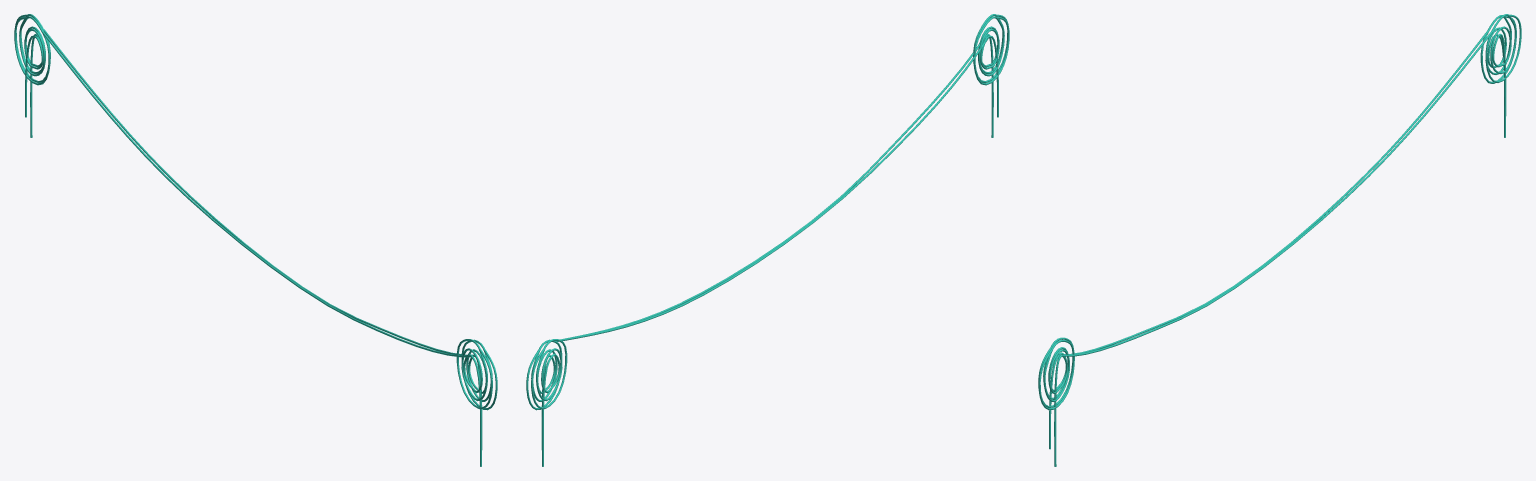
File: rope 1.fbx
3 views of the same model, side by side, from view 1: azimuth 30°, elevation 25°; view 2: azimuth 150°, elevation 25°; view 3: azimuth 330°, elevation 25° (orthographic).
Parts seen in each view (by area): view 1: Line002; view 2: Line002; view 3: Line002.
Part boxes in pixels (x1=…): Line002: x1=14, y1=14, x2=497, y2=466; Line002: x1=526, y1=14, x2=1009, y2=466; Line002: x1=1038, y1=14, x2=1521, y2=466.
Size of the model in its own units: 122 by 16696 by 2359.
